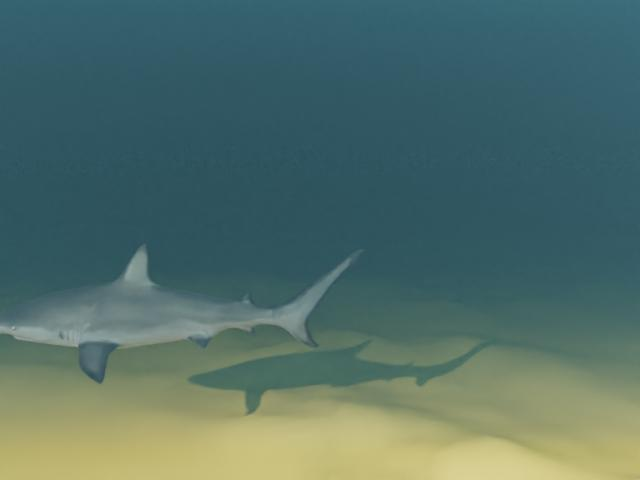Carribean Shark.001: (0, 243, 365, 384)
